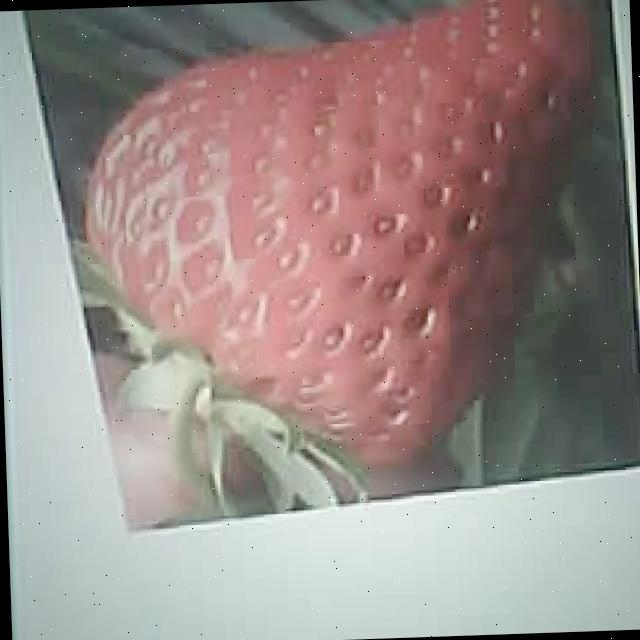strawberry: (82, 0, 600, 480)
